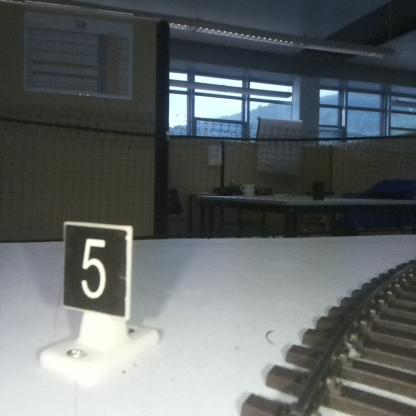black-stop-5: (65, 226, 126, 366)
